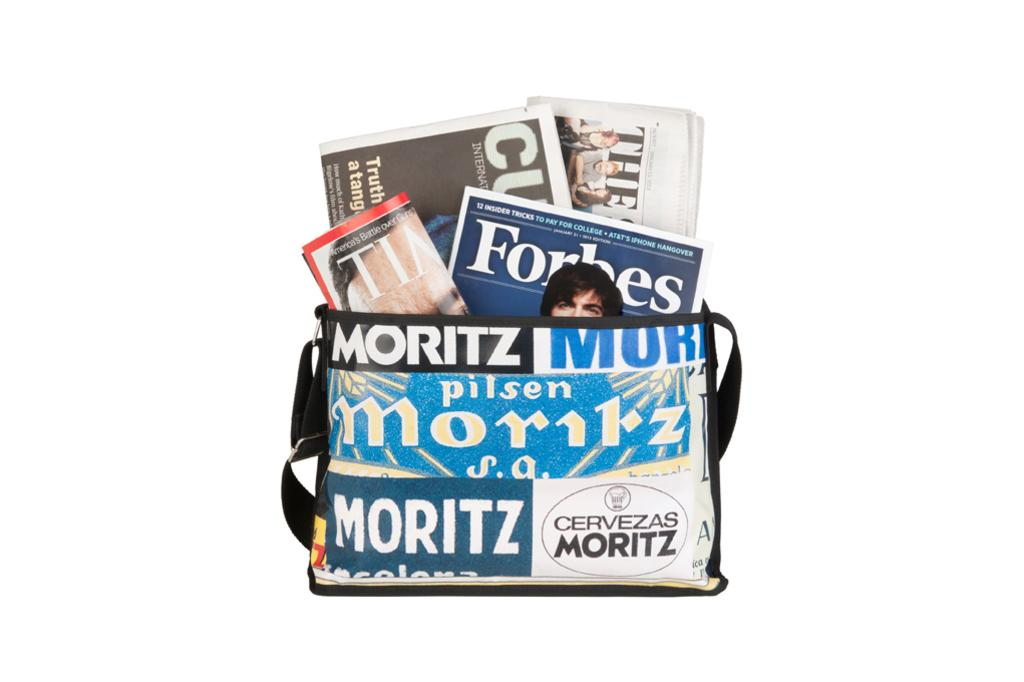Luggage-and-bags: (289, 288, 733, 618)
